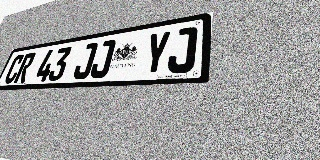3: (47, 46, 72, 81)
4: (33, 49, 58, 82)
C: (3, 54, 25, 84)
J: (166, 26, 198, 74), (88, 39, 116, 79), (71, 42, 99, 80)
R: (13, 52, 37, 83)
Y: (141, 30, 172, 75)
